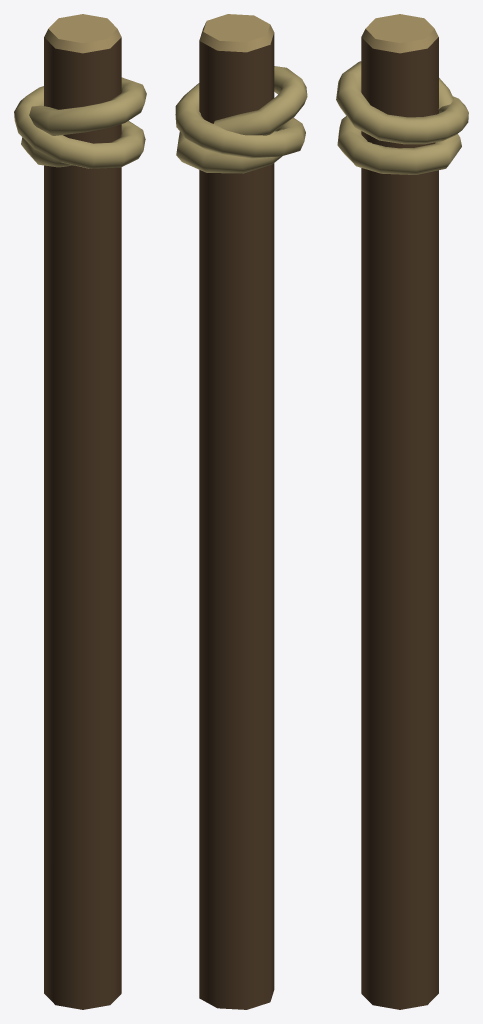
The model's file is post.glb.
The picture shows the model from 3 angles, left to right: view 1: azimuth 90°, elevation 25°; view 2: azimuth 150°, elevation 25°; view 3: azimuth 270°, elevation 25°; orthographic projection.
Visible parts, largest first — view 1: Environment_Dock_Pole; view 2: Environment_Dock_Pole; view 3: Environment_Dock_Pole.
Part boxes in pixels (x1=…): Environment_Dock_Pole: x1=14, y1=14, x2=146, y2=1009; Environment_Dock_Pole: x1=175, y1=14, x2=307, y2=1009; Environment_Dock_Pole: x1=336, y1=14, x2=468, y2=1009.
Size of the model in its own units: 0.3665 by 3.01 by 0.376.
1 material, 1 textured.
